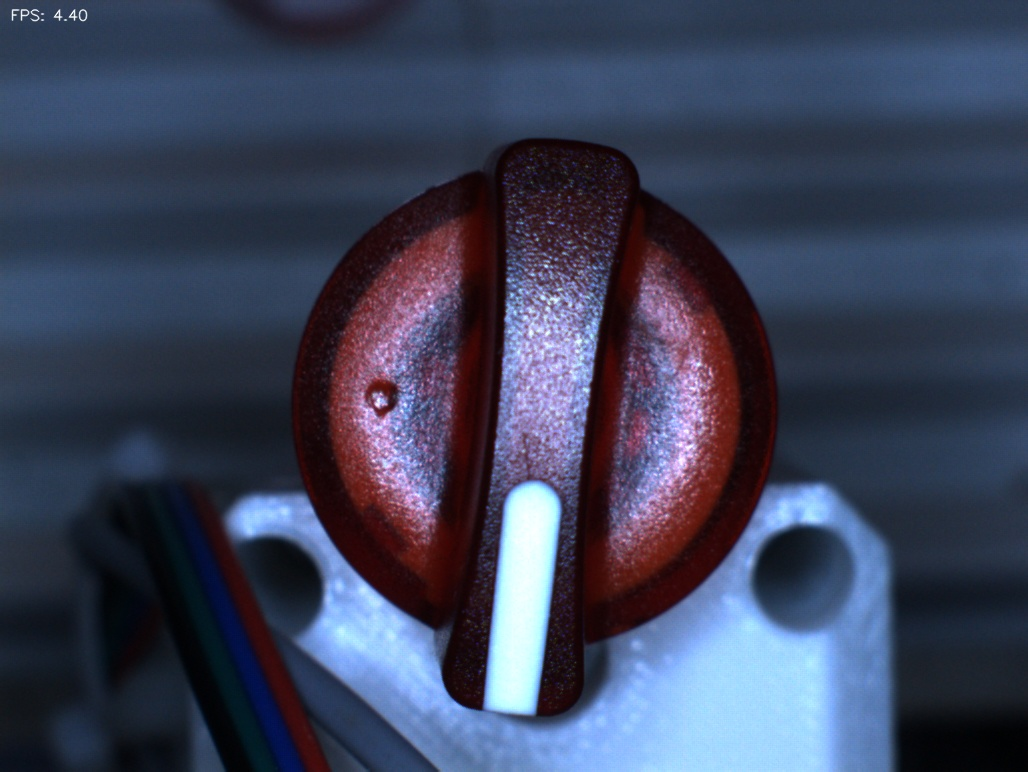Choc: (338, 357, 414, 433)
